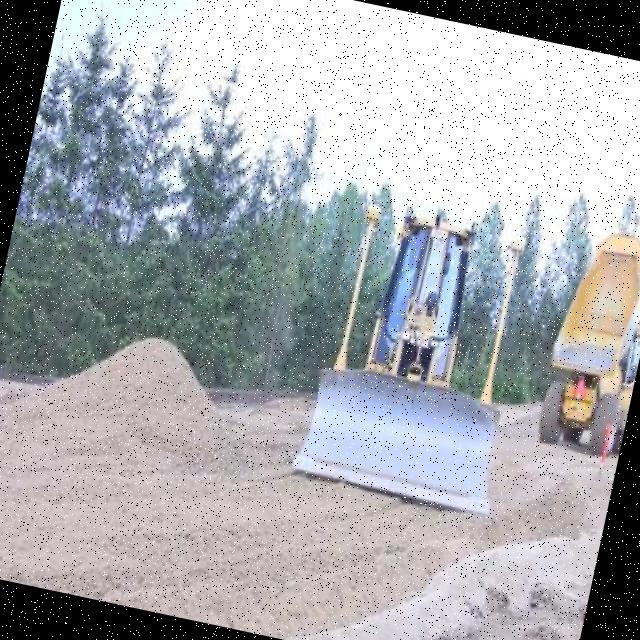Dump Truck: (525, 221, 640, 460)
